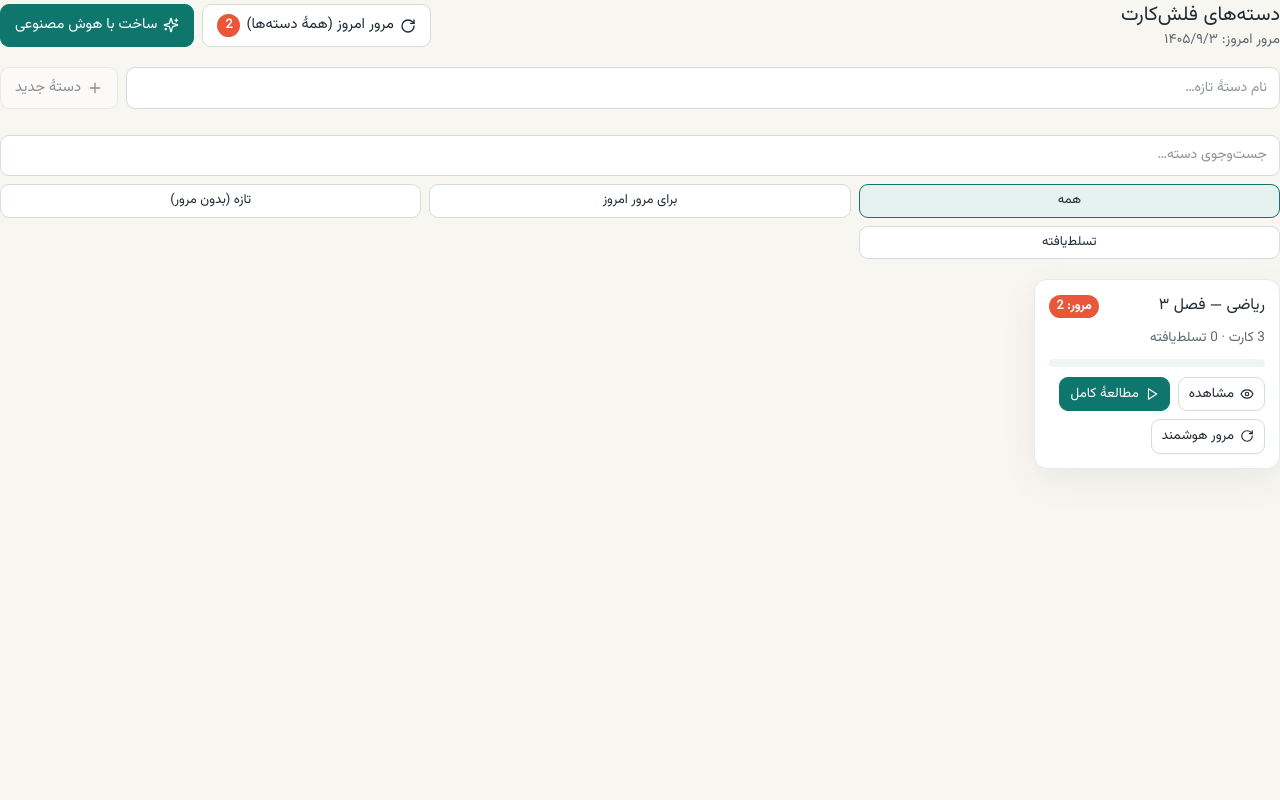
Test case: FlashcardsWorkspace — Phase 03 library, card details, generation preview › surfaces the 409 duplicate-report message from the server
Click the button "مشاهده" at (1221, 394), box [1178, 377, 1265, 411]
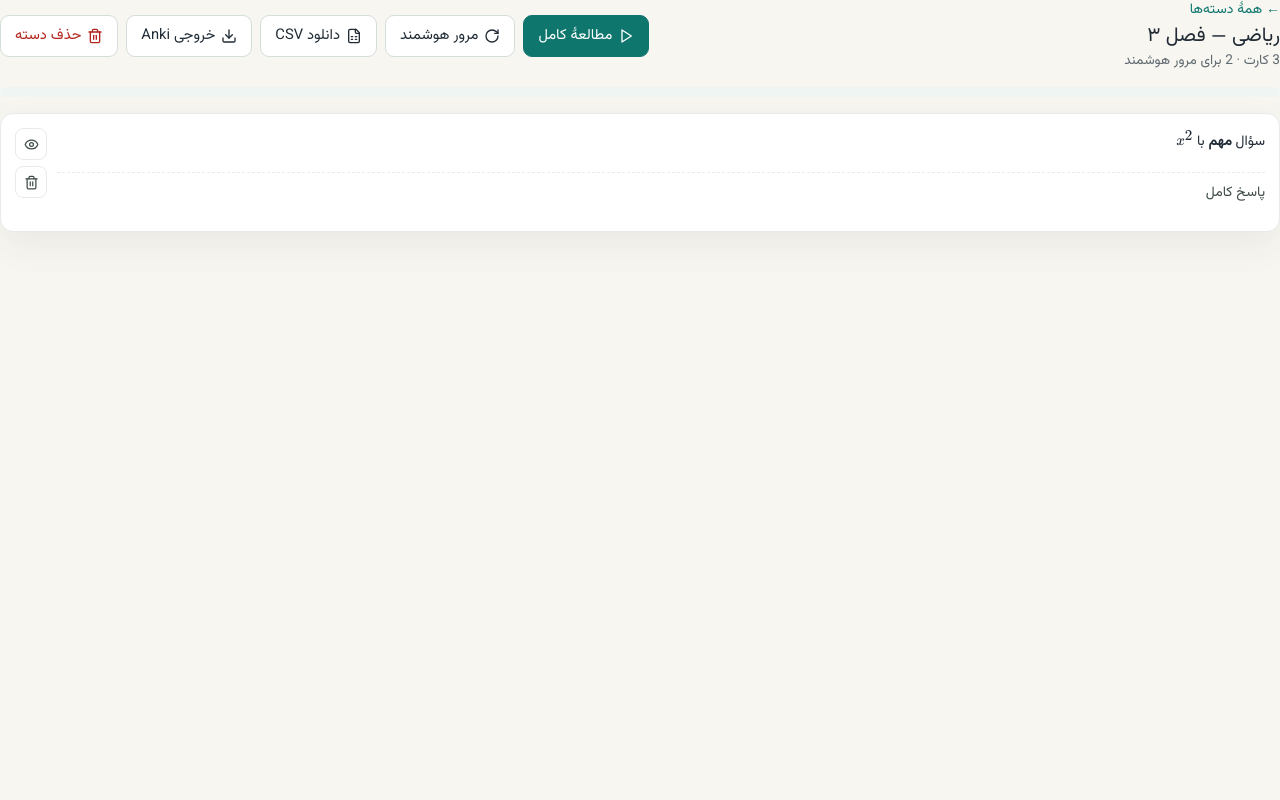
Click the button named "جزئیات کارت" at (31, 144), box [15, 128, 47, 160]
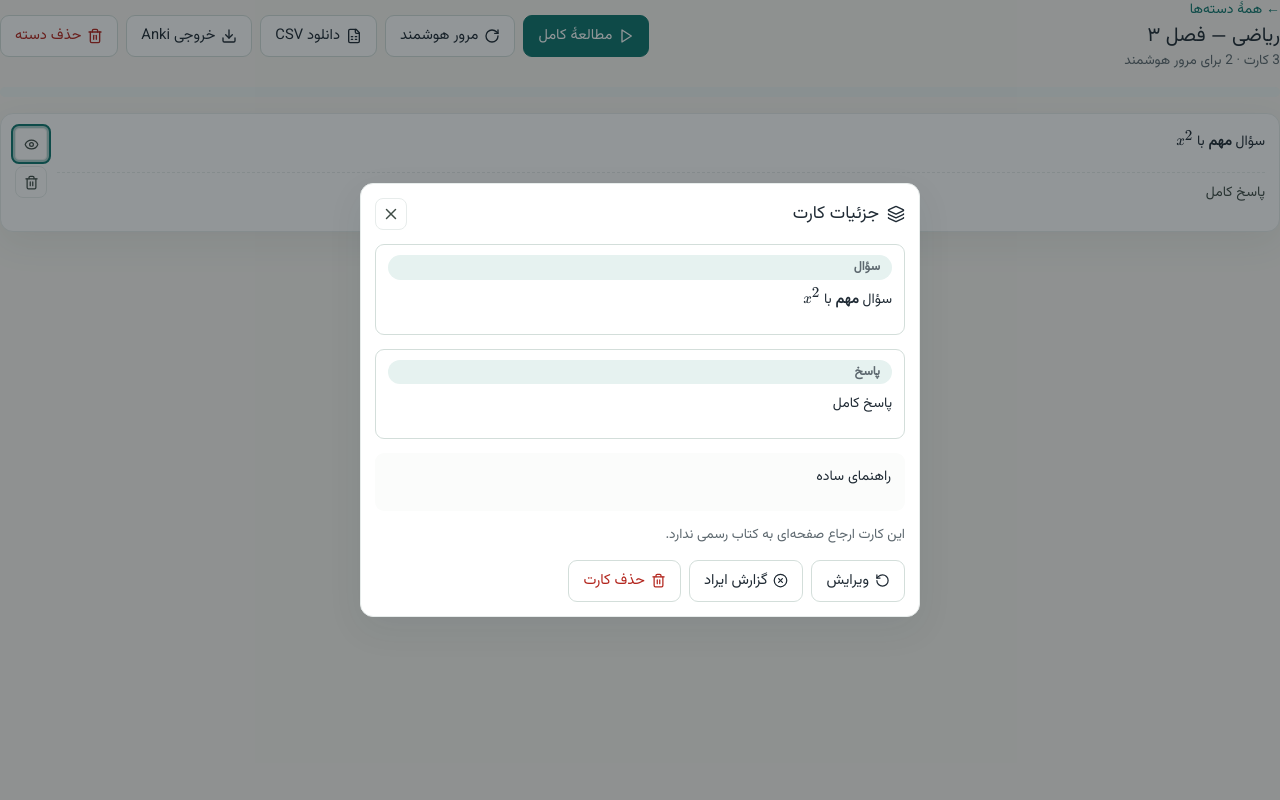
Click the button "گزارش ایراد" at (746, 581), box [689, 560, 804, 602]
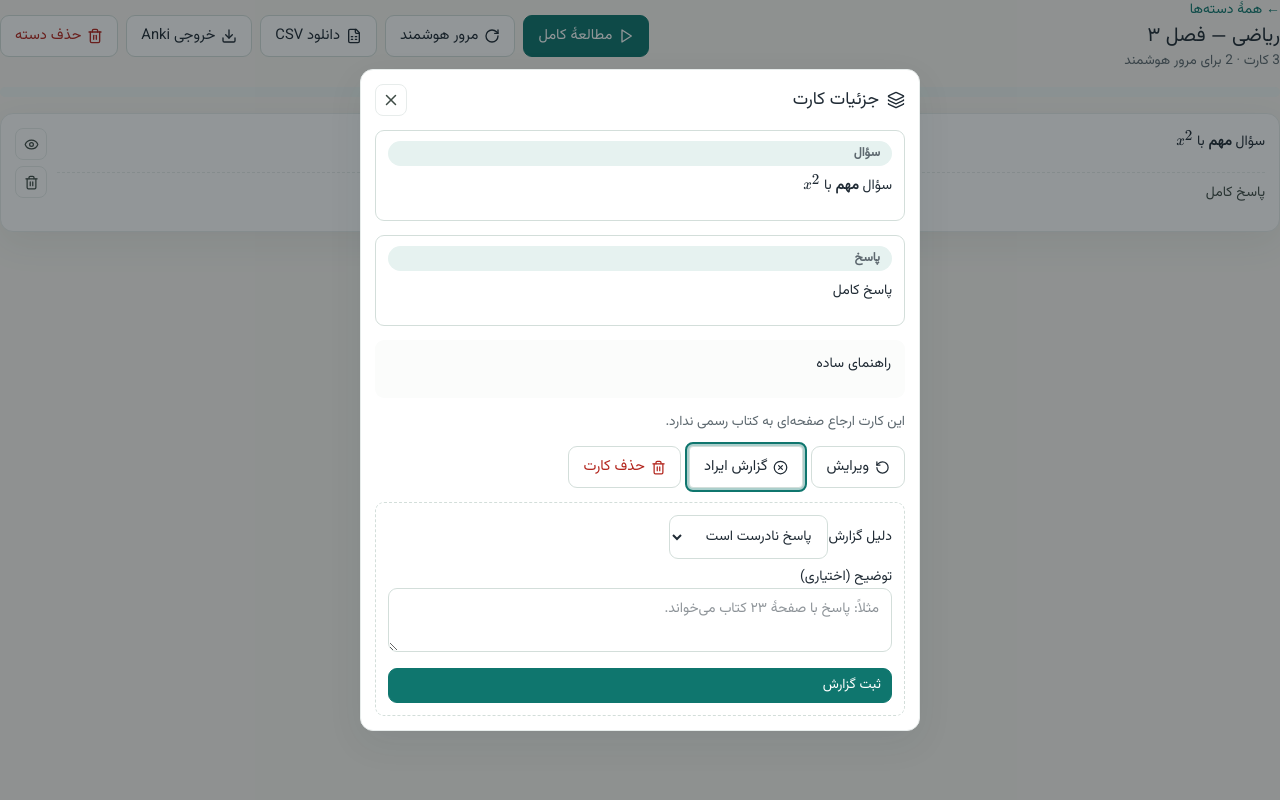
Click the button "ثبت گزارش" at (852, 685), box [388, 668, 892, 703]
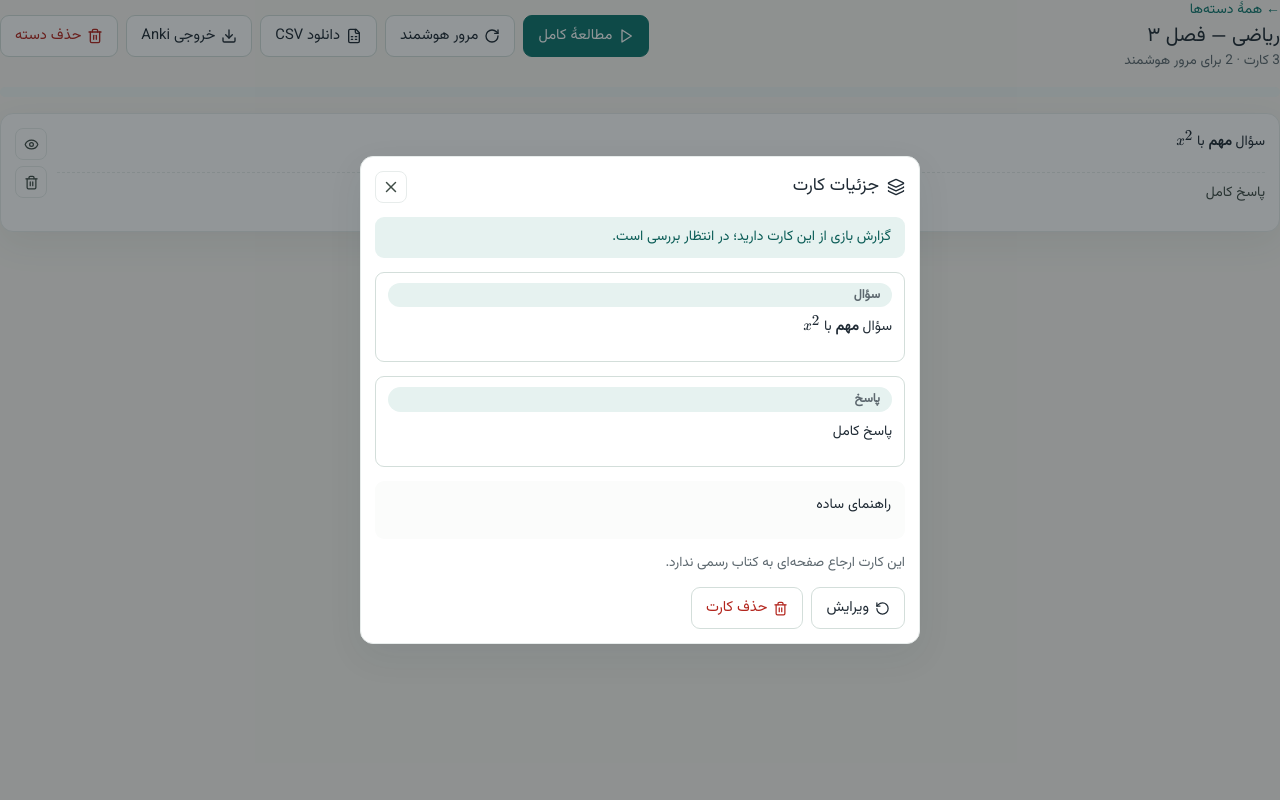
Expected: the text "گزارش بازی از این کارت دارید؛ در انتظار بررسی است." is shown, [375, 216, 905, 258]
